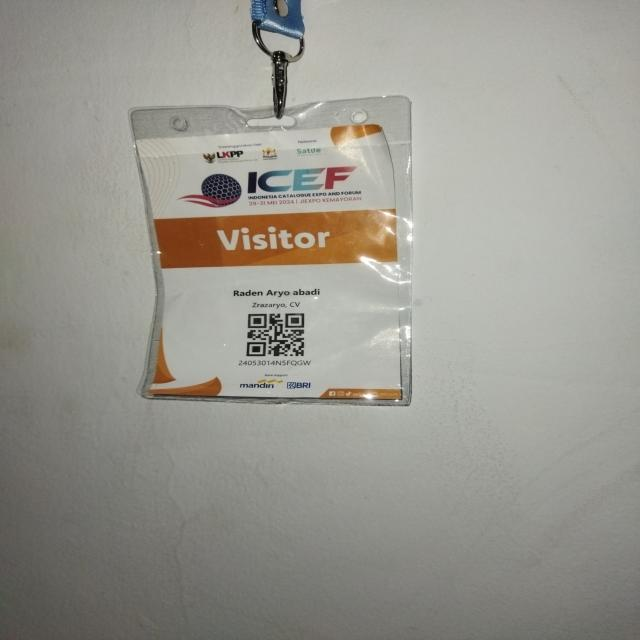ID_card: (128, 98, 414, 405)
